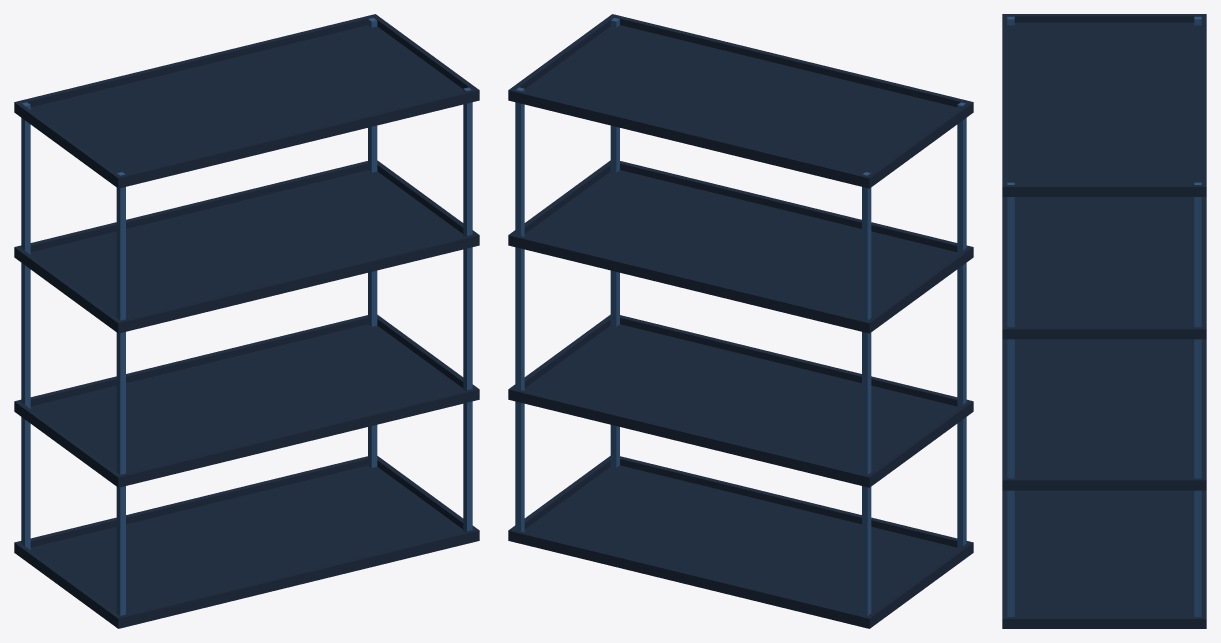
File: Warehouse Shelf.fbx
3 views of the same model, side by side, from view 1: azimuth 30°, elevation 25°; view 2: azimuth 150°, elevation 25°; view 3: azimuth 270°, elevation 25° (orthographic).
Parts seen in each view (by area): view 1: Shelf4, Shelf2, Shelf1, Shelf3, Shelf_Bar2, Shelf_Bar3, Shelf_Bar4, Shelf_Bar1; view 2: Shelf4, Shelf2, Shelf1, Shelf3, Shelf_Bar1, Shelf_Bar4, Shelf_Bar3, Shelf_Bar2; view 3: Shelf4, Shelf2, Shelf1, Shelf3, Shelf_Bar1, Shelf_Bar2.
Part boxes in pixels (box(x1,y1,x2,y2)): Shelf4: box(14, 14, 479, 188); Shelf2: box(14, 314, 479, 487); Shelf1: box(14, 160, 479, 333); Shelf3: box(14, 456, 479, 628); Shelf_Bar2: box(463, 87, 472, 532); Shelf_Bar3: box(116, 172, 125, 615); Shelf_Bar4: box(21, 102, 30, 549); Shelf_Bar1: box(368, 17, 377, 467); Shelf4: box(508, 14, 973, 188); Shelf2: box(508, 314, 973, 487); Shelf1: box(508, 160, 973, 333); Shelf3: box(508, 456, 973, 628); Shelf_Bar1: box(515, 87, 524, 532); Shelf_Bar4: box(862, 172, 871, 615); Shelf_Bar3: box(957, 102, 966, 549); Shelf_Bar2: box(610, 17, 619, 467); Shelf4: box(1002, 14, 1206, 196); Shelf2: box(1002, 339, 1206, 490); Shelf1: box(1002, 197, 1206, 339); Shelf3: box(1002, 490, 1206, 628); Shelf_Bar1: box(1194, 182, 1201, 616); Shelf_Bar2: box(1007, 182, 1014, 616).
Bounding box in the file's own units: 478 × 569 × 239.
